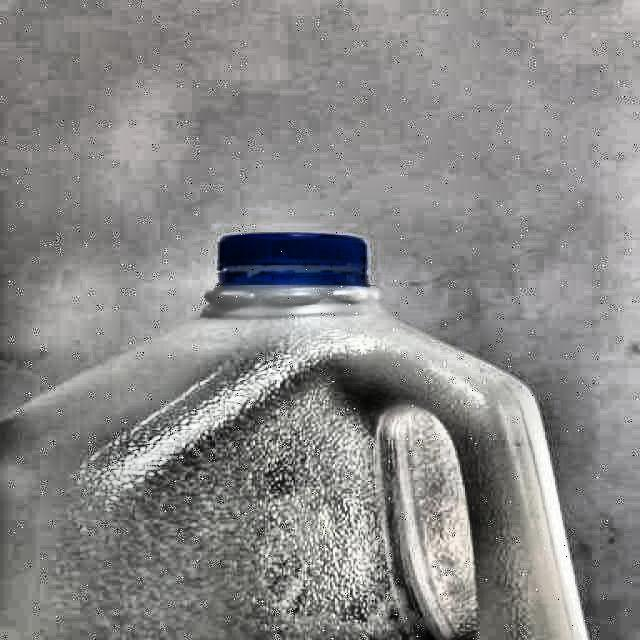plastic: (0, 233, 587, 639)
